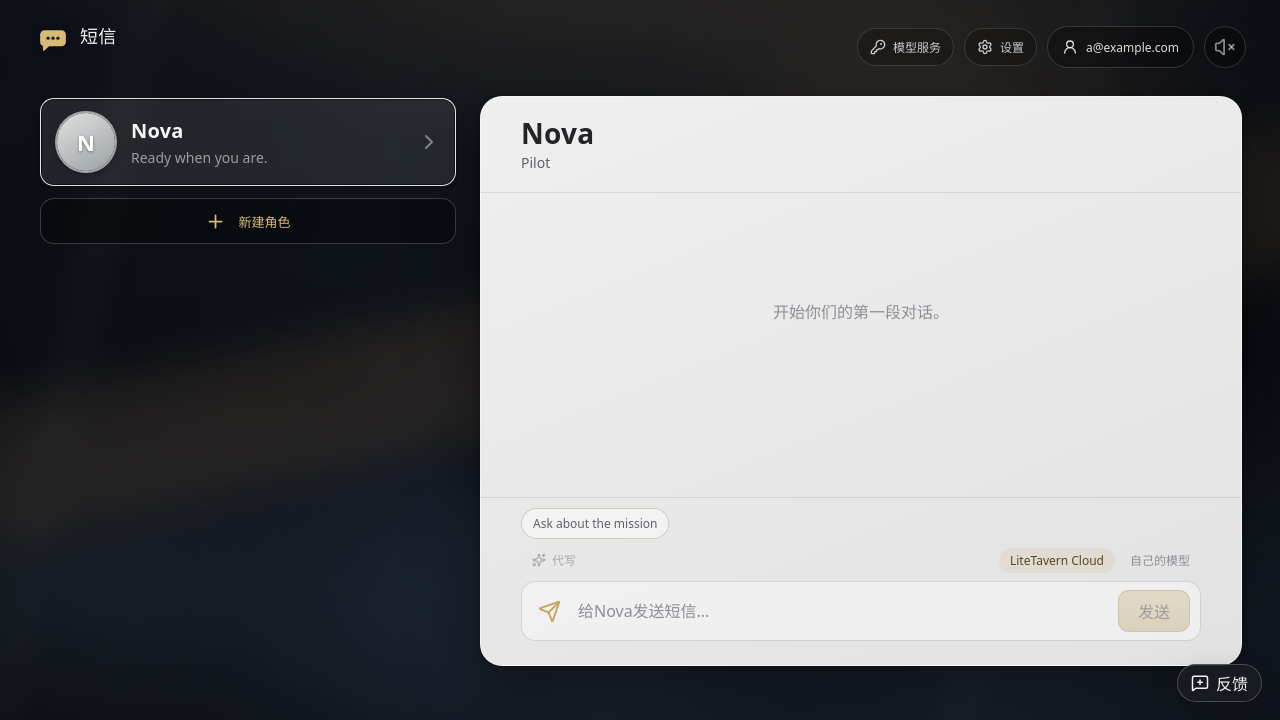
Test: fills the composer from a configured local quick reply without sending it
The width and height of the screenshot is (1280, 720).
Click the button "Ask about the mission". click: (595, 524)
box: [521,508,669,539]
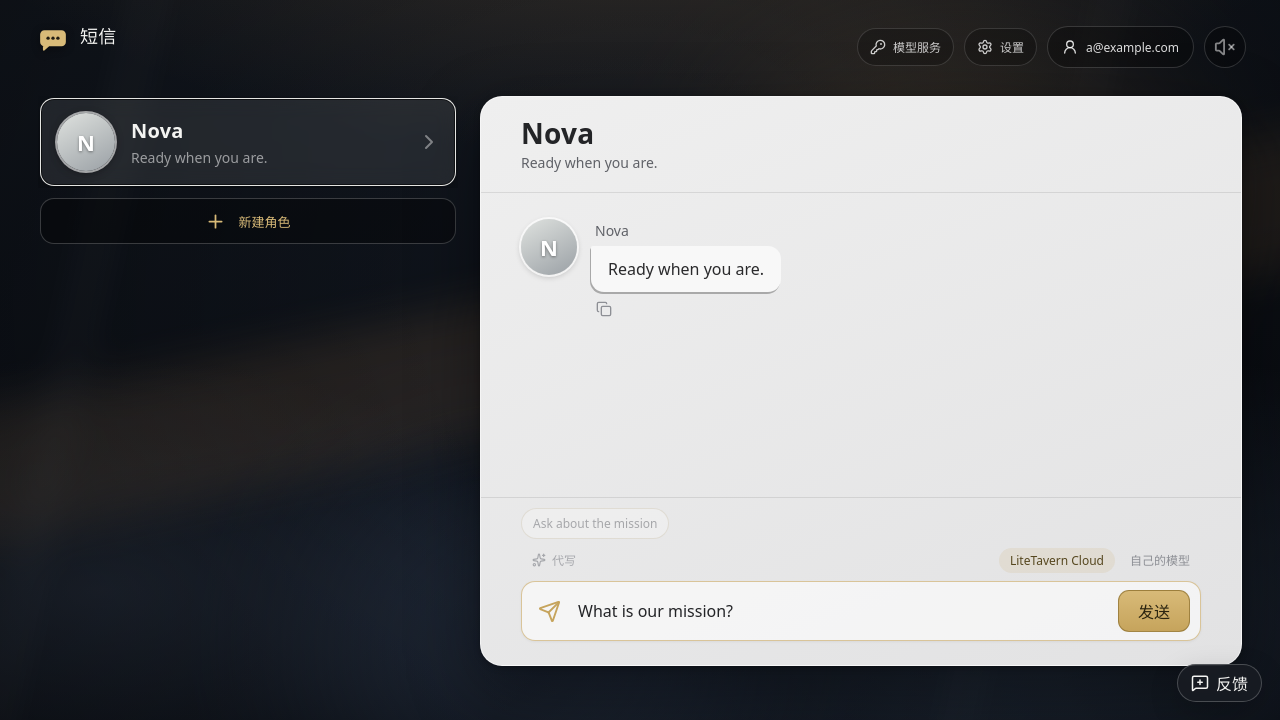
Expected: the text box with placeholder "Nova" holds "What is our mission?", [576,597,1106,625]
